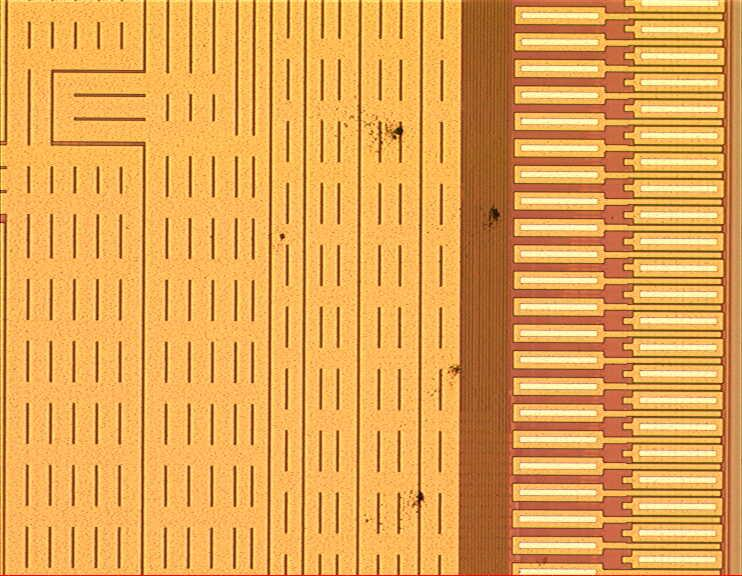PO CONTAMINATION: (272, 99, 507, 535)
